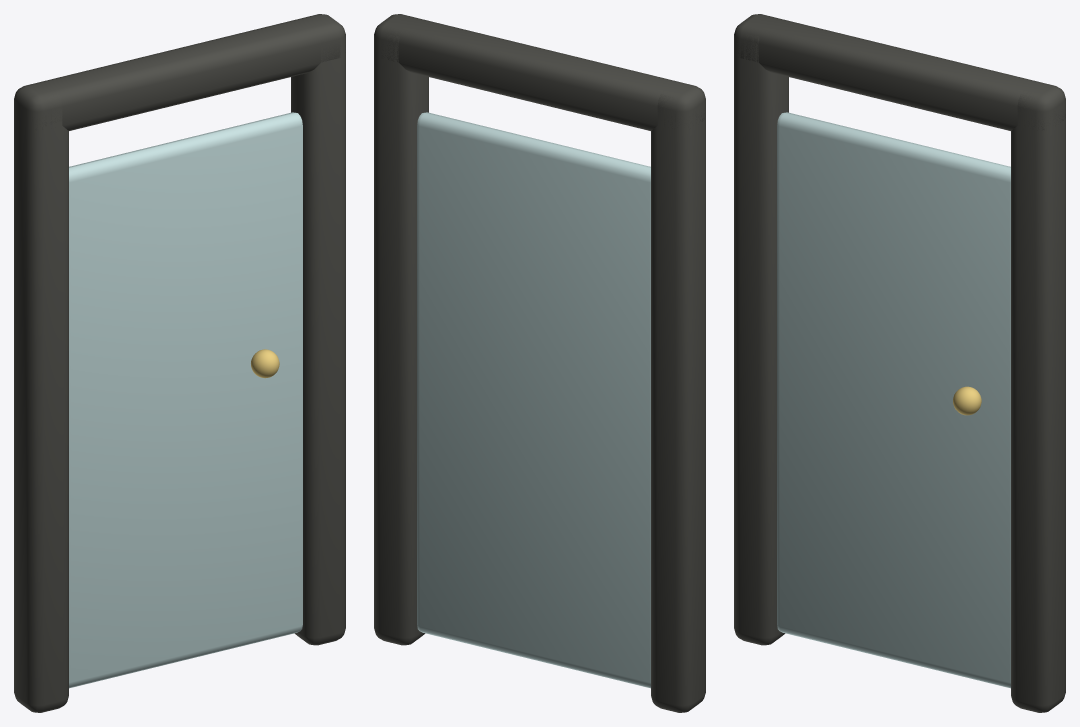
The model's file is doorway-glass.glb.
3 renders of one model, left to right at view 1: azimuth 30°, elevation 25°; view 2: azimuth 150°, elevation 25°; view 3: azimuth 330°, elevation 25°, orthographic.
Visible parts, largest first — view 1: door-glass, frame-left.001, frame-right.001, frame-top.002, handle; view 2: door-glass, frame-left.001, frame-right.001, frame-top.002; view 3: door-glass, frame-right.001, frame-left.001, frame-top.002, handle.
Part boxes in pixels (left/top/right/bottom): door-glass: left=69, top=112, right=302, bottom=688; frame-left.001: left=14, top=88, right=68, bottom=712; frame-right.001: left=291, top=28, right=345, bottom=645; frame-top.002: left=16, top=14, right=345, bottom=130; handle: left=251, top=349, right=279, bottom=378; door-glass: left=417, top=112, right=650, bottom=688; frame-left.001: left=651, top=90, right=705, bottom=712; frame-right.001: left=374, top=26, right=428, bottom=645; frame-top.002: left=376, top=14, right=705, bottom=130; door-glass: left=777, top=112, right=1010, bottom=688; frame-right.001: left=1011, top=89, right=1065, bottom=712; frame-left.001: left=734, top=25, right=788, bottom=645; frame-top.002: left=736, top=14, right=1065, bottom=130; handle: left=953, top=386, right=981, bottom=415.
Size of the model in its own units: 1.4 by 2.6 by 0.2134.
